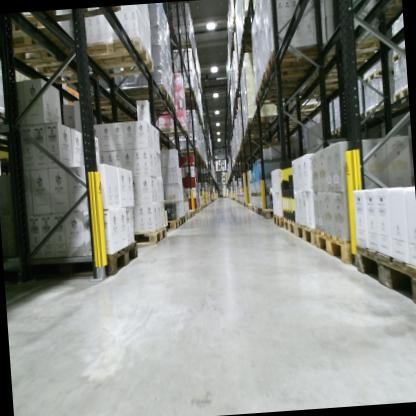pallet: (24, 242, 141, 287), (351, 239, 416, 318), (0, 13, 69, 70), (19, 49, 108, 93), (79, 30, 157, 79), (263, 37, 331, 82), (315, 227, 354, 267), (119, 84, 172, 113), (258, 67, 305, 98), (129, 93, 178, 121), (43, 6, 124, 21), (253, 86, 305, 107), (125, 225, 168, 248), (296, 220, 318, 251), (361, 68, 394, 85), (156, 124, 191, 139), (362, 100, 388, 119), (377, 0, 403, 17), (390, 86, 409, 107), (283, 214, 298, 236), (164, 217, 182, 230), (391, 47, 405, 63), (182, 84, 196, 99), (273, 213, 286, 228), (262, 208, 277, 221), (186, 208, 196, 218), (179, 214, 186, 226), (185, 211, 194, 219), (184, 212, 190, 222), (258, 208, 263, 217), (255, 205, 259, 214), (252, 205, 255, 213), (249, 205, 252, 212)
